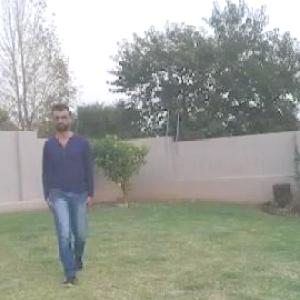follow: (44, 115, 96, 276)
